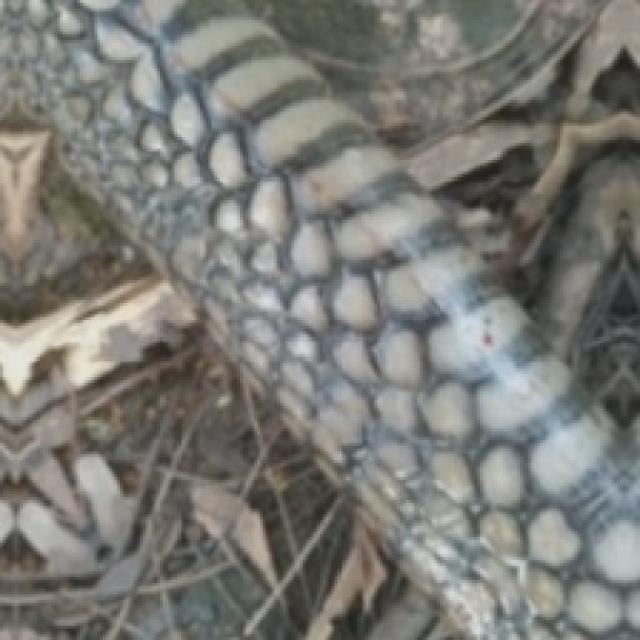king cobra: (0, 0, 637, 637), (0, 420, 183, 637), (189, 480, 300, 631)
